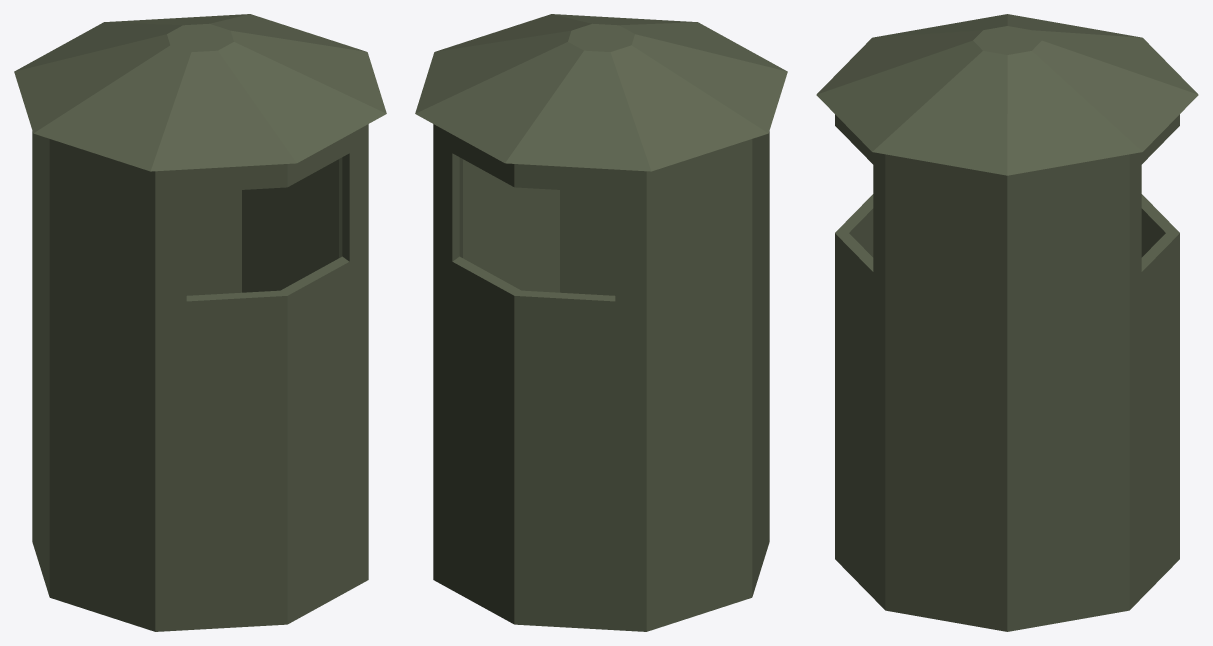
File: Bin.fbx
3 views of the same model, side by side, from view 1: azimuth 30°, elevation 25°; view 2: azimuth 150°, elevation 25°; view 3: azimuth 270°, elevation 25° (orthographic).
Parts seen in each view (by area): view 1: Cylinder.001; view 2: Cylinder.001; view 3: Cylinder.001.
Boxes of the visible parts, x1,y1,x2,y2 form: Cylinder.001: [14, 14, 386, 631]; Cylinder.001: [415, 14, 787, 631]; Cylinder.001: [816, 14, 1198, 631].
Bounding box in the file's own units: 100 × 150 × 100.
